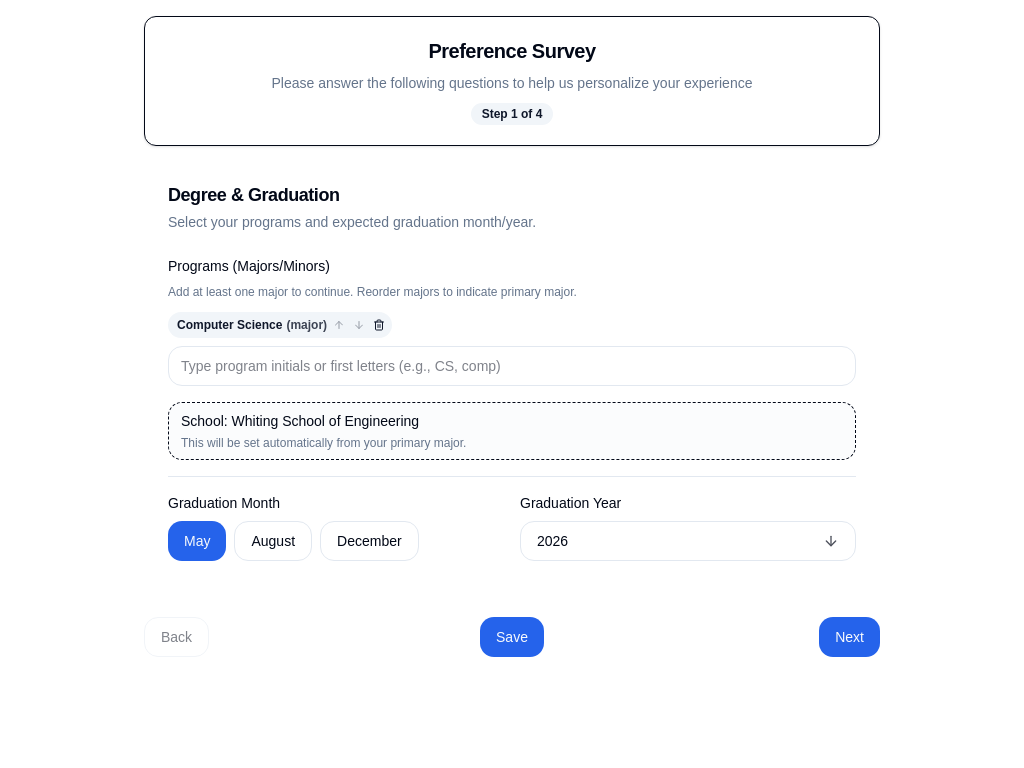
Onboard survey › shows centered Save on steps 1–3 when modifying an existing profile, hidden on step 4
The width and height of the screenshot is (1024, 768).
Expected: the button with test id "save-survey-button" is shown, [480,617,544,657]
Click the button with test id "next-button": {"x": 850, "y": 637} [819,617,880,657]
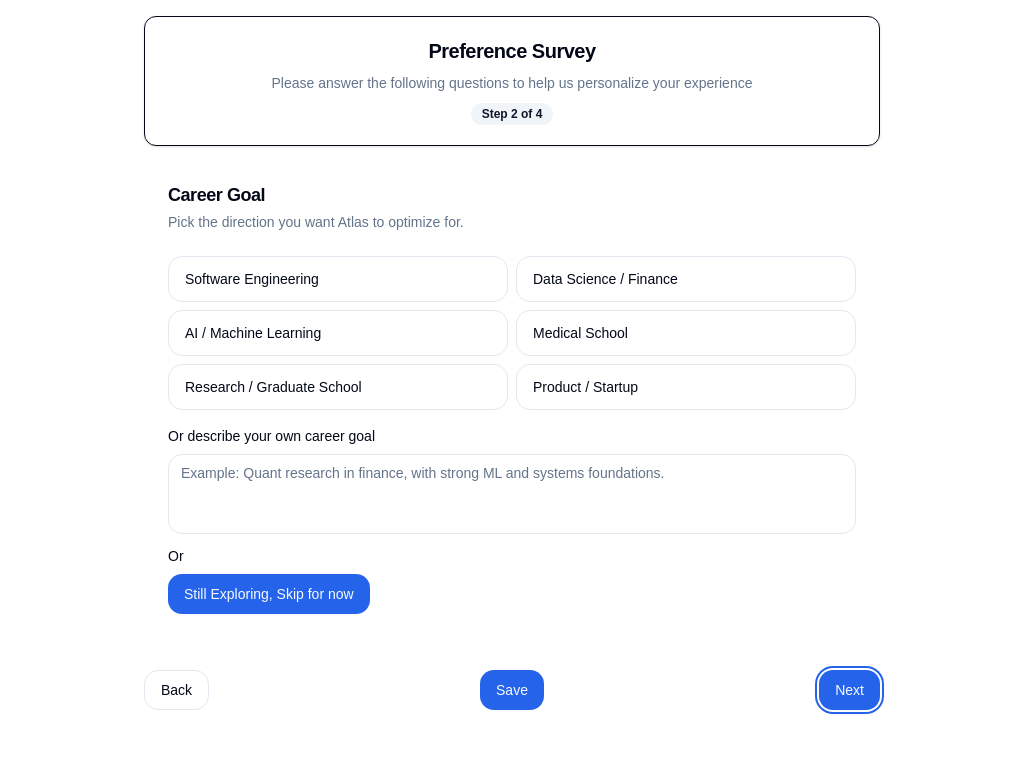
Expected: the button with test id "save-survey-button" is shown, [480,670,544,710]
Click the button with test id "next-button": {"x": 850, "y": 690} [819,670,880,710]
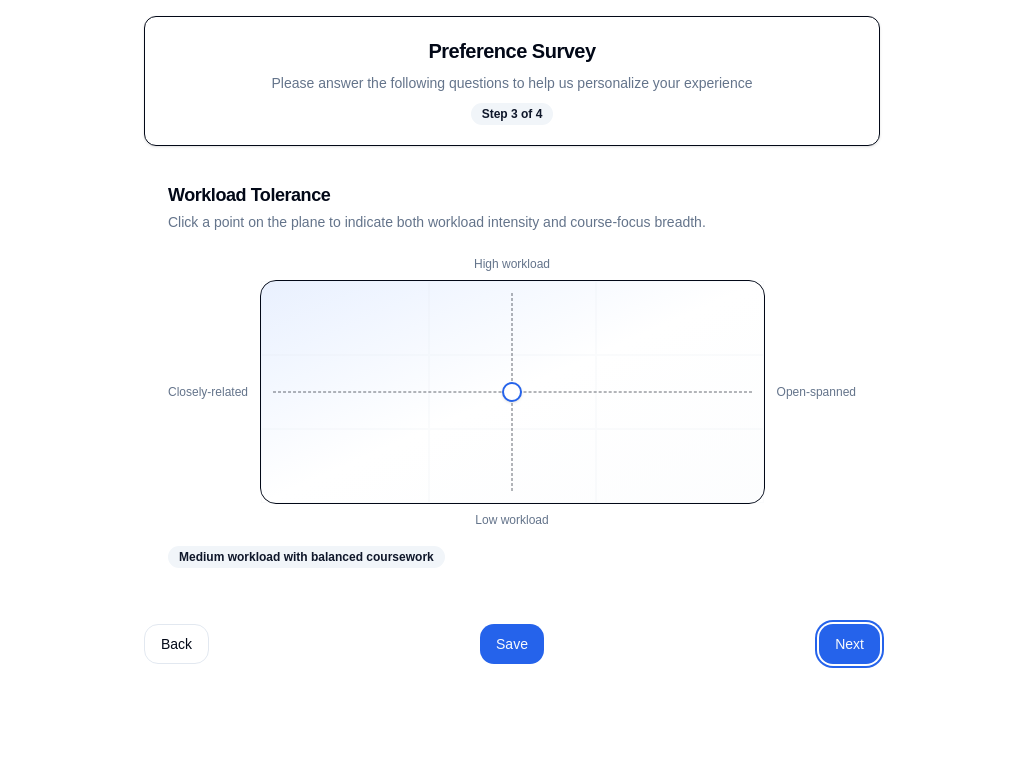
Expected: the button with test id "save-survey-button" is shown, [480,624,544,664]
Click the button with test id "next-button": {"x": 850, "y": 644} [819,624,880,664]
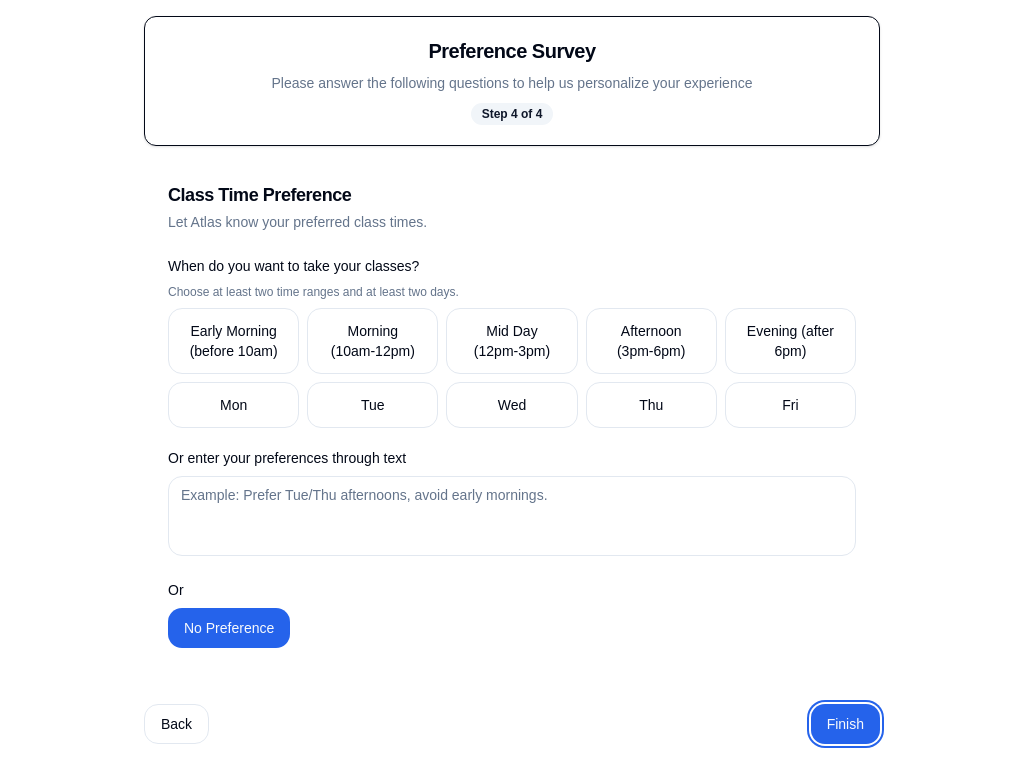
Expected: the button with test id "save-survey-button" is gone
Expected: the button "Finish" is shown, [811,704,880,744]
